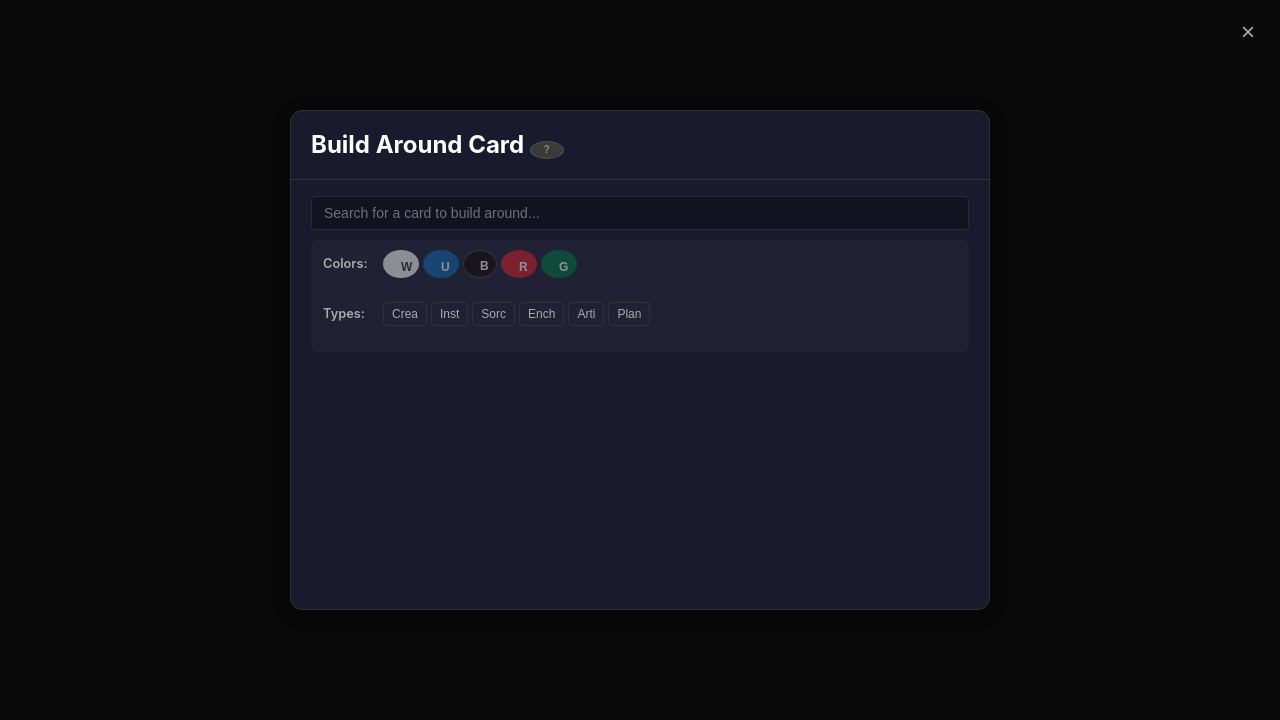
BuildAroundSeedModal › should build suggestions when Quick Build button is clicked
# Search and select card
Type "Build" into the field with placeholder "Search for a card to build around...".
click(640, 213); type("Build")  # box [311,196,969,230]
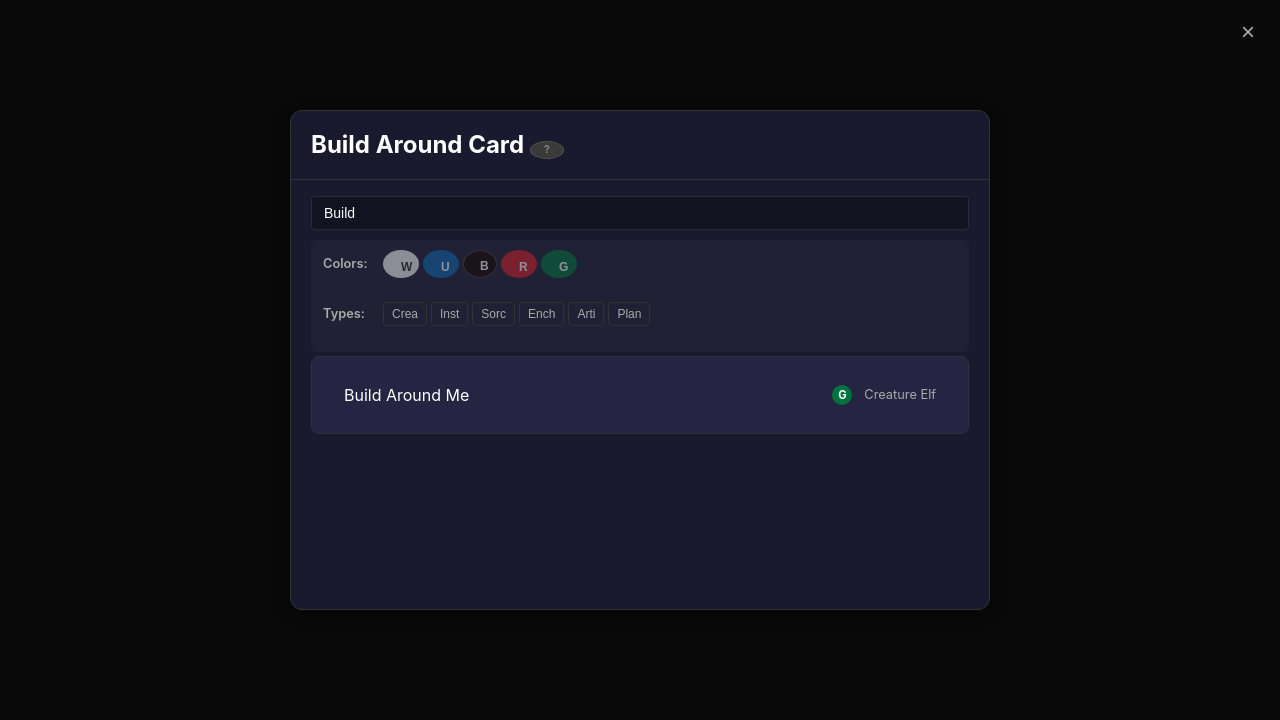
expect the text "Build Around Me" is shown: met
Click the text "Build Around Me".
click(407, 395)  # box [344,385,469,405]
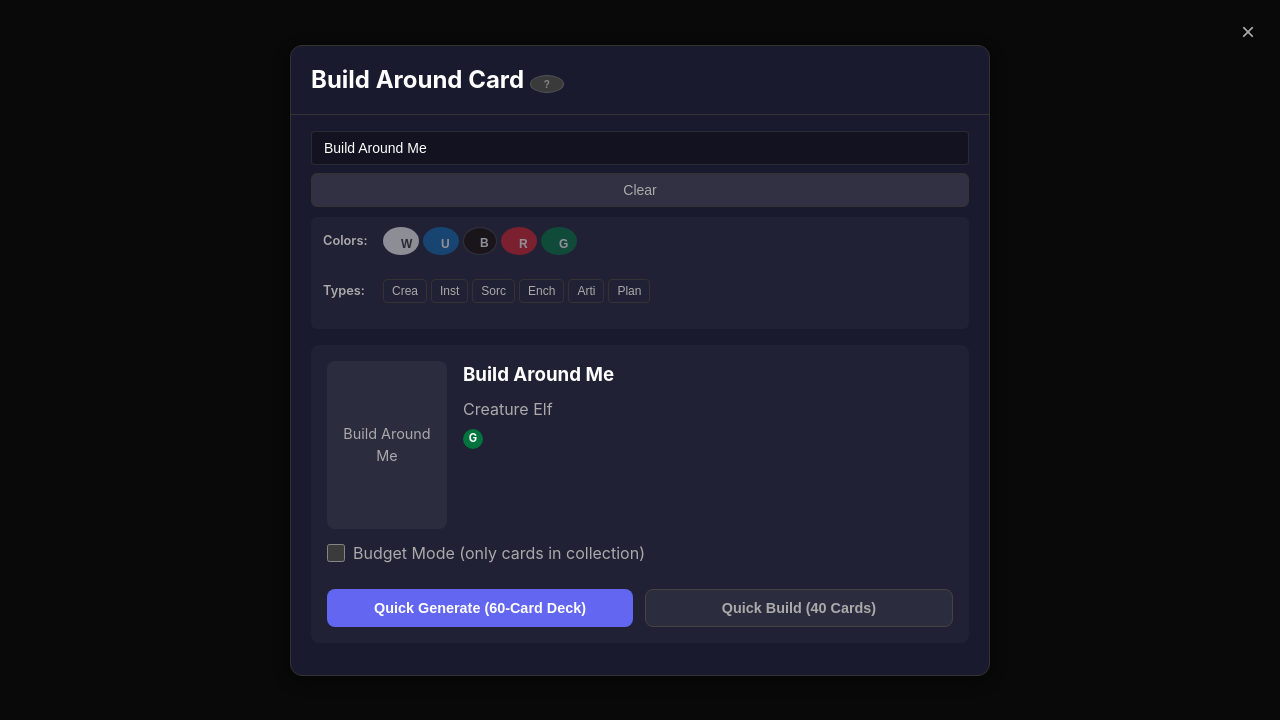
expect the button "Quick Build (40 Cards)" is shown: met
# Click build button
Click the button "Quick Build (40 Cards)".
click(799, 608)  # box [645,588,953,626]
(page scrolled)
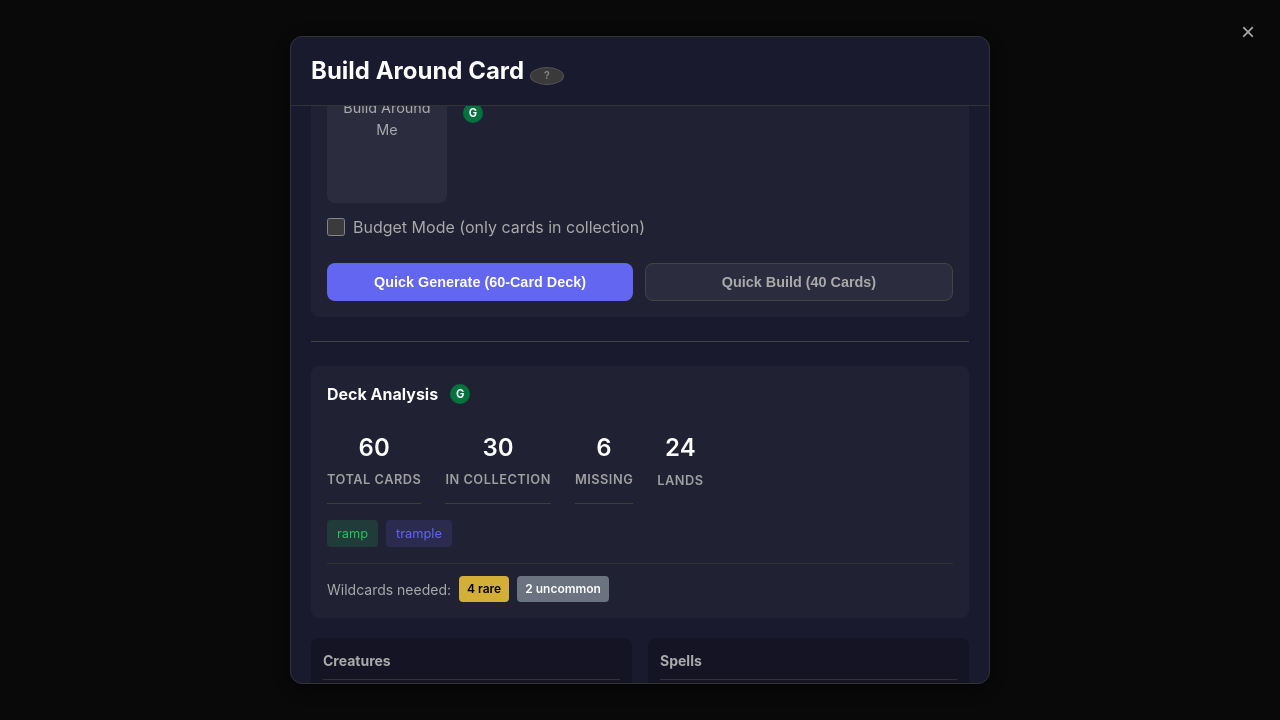
expect the heading "Deck Analysis" is shown: met, box [327,382,438,406]
